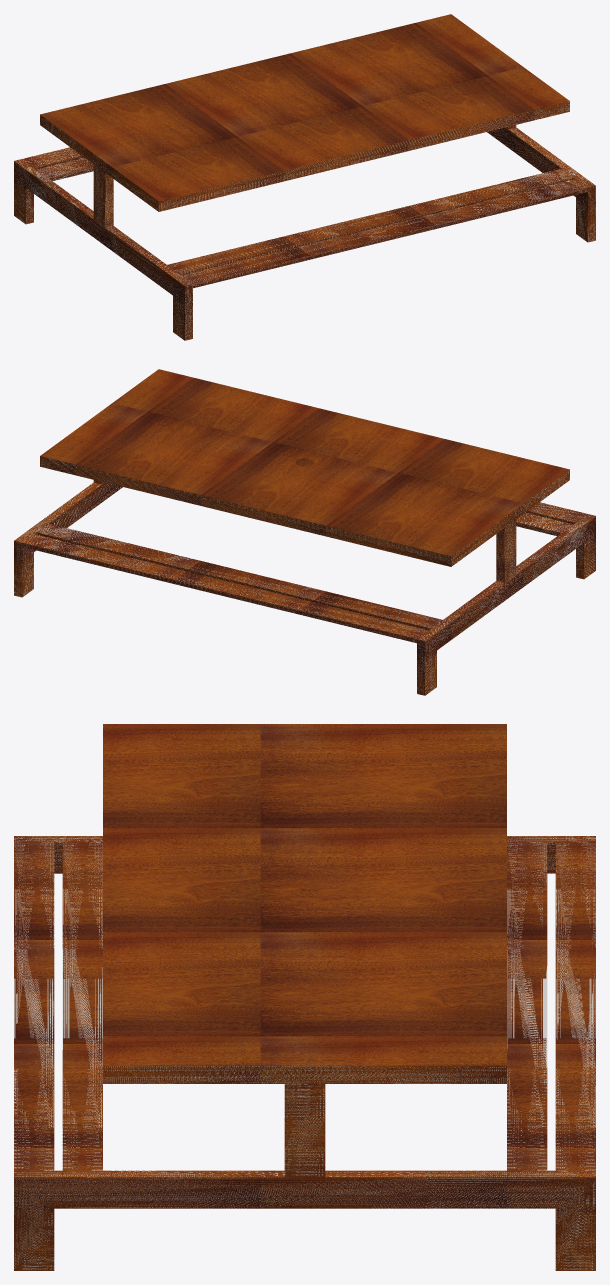
The picture shows the model from 3 angles, top to bottom: view 1: azimuth 30°, elevation 25°; view 2: azimuth 150°, elevation 25°; view 3: azimuth 270°, elevation 25°; orthographic projection. The views are drawn at different scales.
Visible parts, largest first — view 1: mesh1_mesh1-geometry; view 2: mesh1_mesh1-geometry; view 3: mesh1_mesh1-geometry.
Boxes of the visible parts, x1=… form: mesh1_mesh1-geometry: x1=14, y1=14, x2=595, y2=340; mesh1_mesh1-geometry: x1=14, y1=369, x2=595, y2=695; mesh1_mesh1-geometry: x1=14, y1=724, x2=595, y2=1270.
Size of the model in its own units: 0.7914 by 0.2216 by 0.5698.
